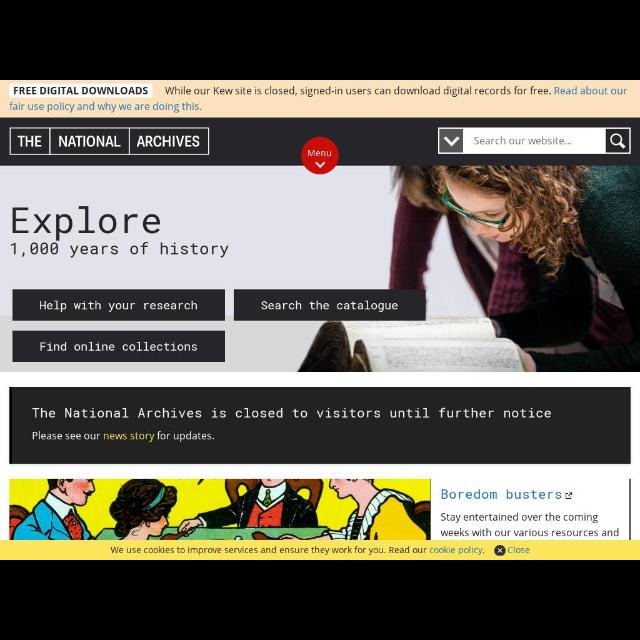button: (302, 138, 338, 174), (606, 128, 630, 152), (442, 128, 462, 152), (494, 546, 506, 556)
icon: (610, 133, 626, 147), (445, 136, 459, 148), (564, 491, 574, 501), (315, 160, 325, 168), (498, 547, 502, 553)
image: (296, 166, 640, 370), (10, 480, 430, 540), (11, 129, 210, 155)
input: (440, 129, 630, 155)
text: (32, 406, 552, 420), (440, 511, 620, 537), (165, 86, 629, 96), (11, 208, 162, 236), (112, 546, 486, 556), (8, 242, 232, 258), (10, 100, 202, 114), (32, 430, 216, 442), (39, 300, 197, 312), (262, 300, 396, 314), (40, 341, 196, 353), (441, 488, 561, 502), (14, 85, 148, 95), (472, 136, 572, 148), (508, 546, 530, 556), (308, 149, 332, 157)
textbutton: (12, 288, 226, 320), (13, 331, 225, 362), (234, 290, 426, 320)
